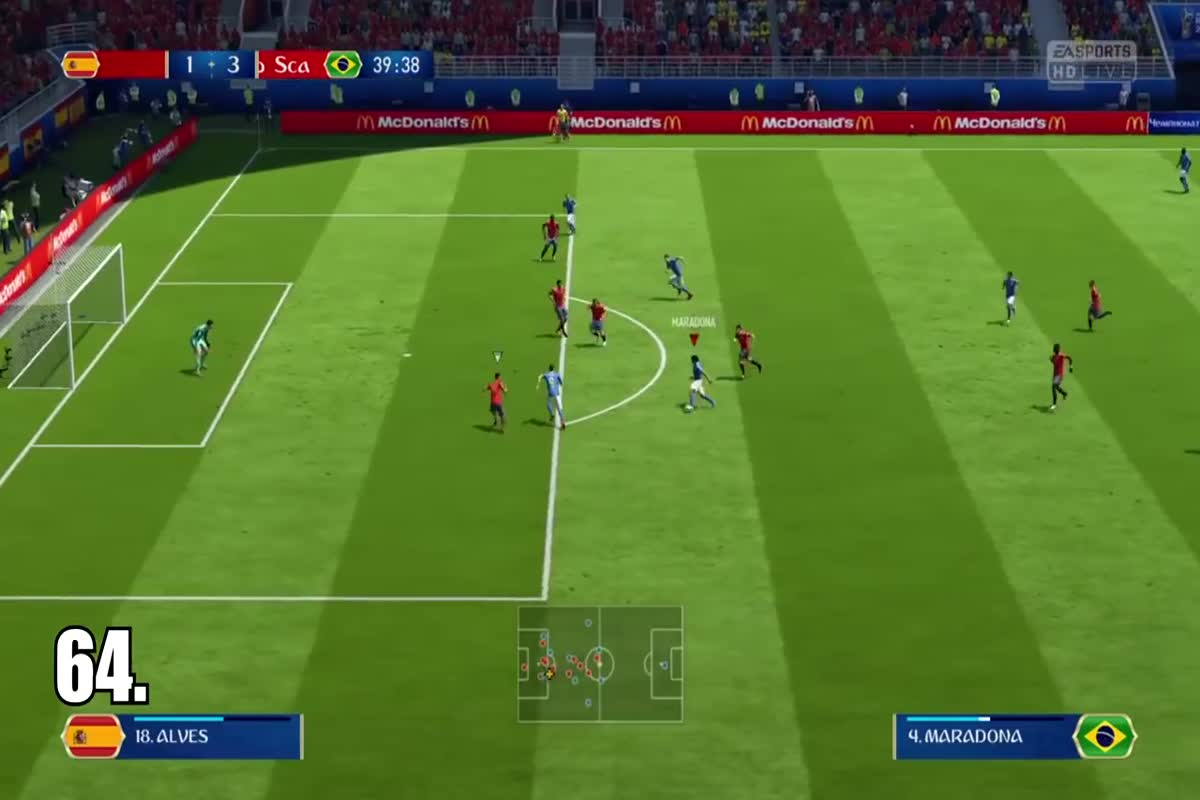ball: (679, 398, 700, 419)
